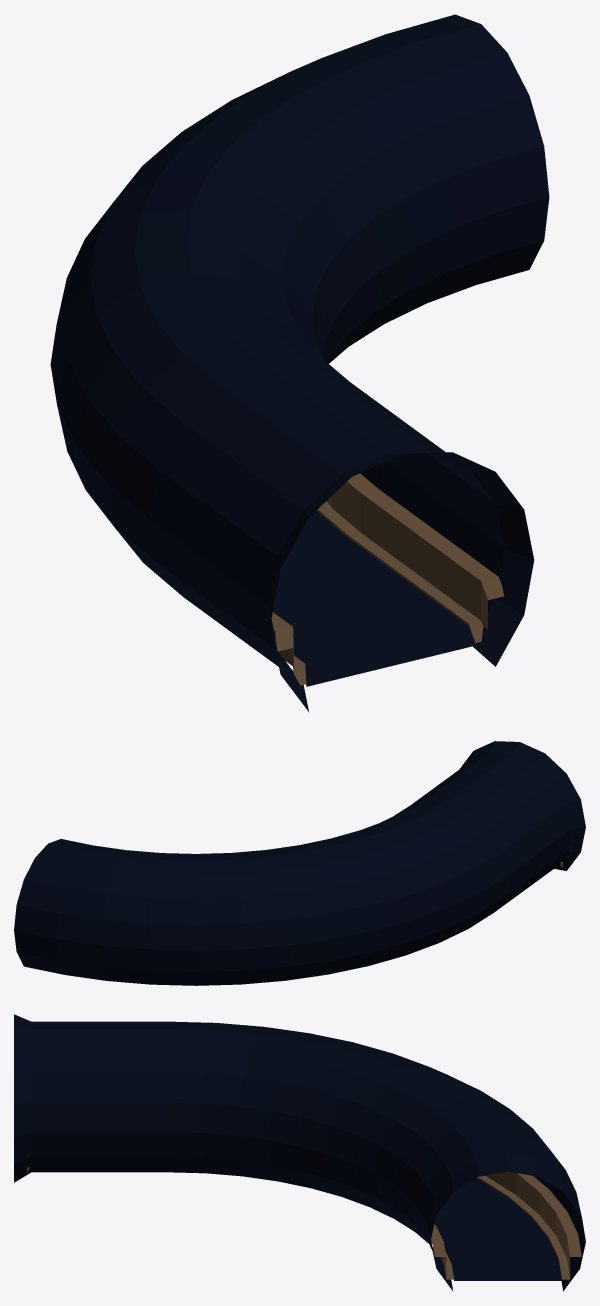
File: tunnelRight.glb
3 renders of one model, top to bottom at view 1: azimuth 30°, elevation 25°; view 2: azimuth 150°, elevation 25°; view 3: azimuth 270°, elevation 25°, orthographic. The views are drawn at different scales.
Visible parts, largest first — view 1: RightTurn; view 2: RightTurn; view 3: RightTurn.
Part boxes in pixels (x1,y1,x2,y2): RightTurn: [50, 14, 549, 711]; RightTurn: [14, 741, 585, 985]; RightTurn: [14, 1014, 585, 1291].
Bounding box in the file's own units: 34.69 × 12.14 × 46.75.
